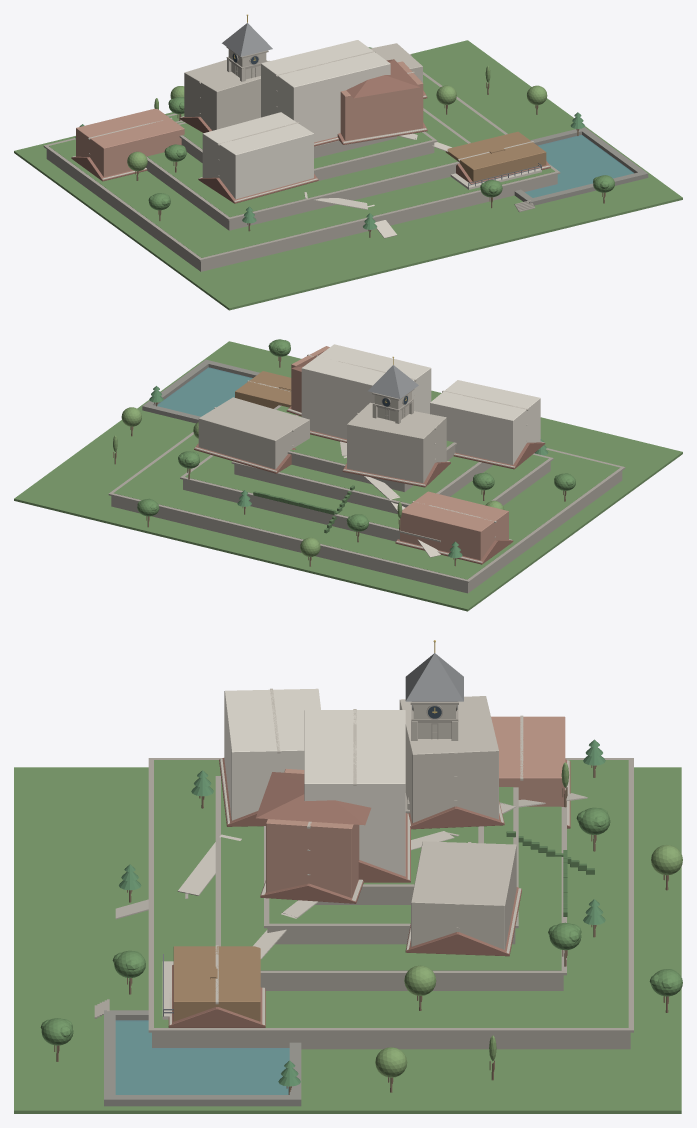
Rendered from DISTRICT_A_HILLTOP.glb.
3 views of the same model, one above another, from view 1: azimuth 30°, elevation 25°; view 2: azimuth 150°, elevation 25°; view 3: azimuth 270°, elevation 25° (orthographic). The views are drawn at different scales.
Parts seen in each view (by area): view 1: A_Base, A_Hill_Lawn_0, Mass, A_Hill_Struct_0, Mass.003, A_Hill_Lawn_1, Mass.005, A_Hill_Struct_1, Mass.001, Mass.002, A_Lake_Pond, Mass.006 (+9 smaller); view 2: A_Base, A_Hill_Lawn_0, A_Hill_Struct_0, Mass, Mass.003, Mass.001, Mass.004, Mass.005, A_Hill_Lawn_1, A_Hill_Struct_1, A_Hill_Struct_2, A_Lake_Pond (+12 smaller); view 3: A_Base, A_Hill_Lawn_0, A_Hill_Lawn_1, A_Hill_Struct_0, Mass, Mass.004, A_Lake_Pond, Mass.001, Mass.003, A_Hill_Struct_1, Mass.002, Mass.006 (+18 smaller).
Part boxes in pixels (box(x1,y1,x2,y2)): A_Base: box(14, 40, 682, 310); A_Hill_Lawn_0: box(49, 75, 554, 257); Mass: box(261, 40, 390, 142); A_Hill_Struct_0: box(43, 72, 560, 271); Mass.003: box(202, 112, 313, 199); A_Hill_Lawn_1: box(147, 111, 467, 217); Mass.005: box(76, 108, 184, 176); A_Hill_Struct_1: box(146, 108, 470, 230); Mass.001: box(184, 59, 268, 130); Mass.002: box(340, 61, 423, 140); A_Lake_Pond: box(525, 135, 633, 197); Mass.006: box(445, 131, 546, 182); A_Base: box(14, 341, 682, 611); A_Hill_Lawn_0: box(113, 434, 619, 579); A_Hill_Struct_0: box(108, 432, 625, 593); Mass: box(301, 344, 431, 439); Mass.003: box(430, 380, 540, 464); Mass.001: box(347, 402, 446, 483); Mass.004: box(198, 397, 309, 469); Mass.005: box(400, 491, 508, 560); A_Hill_Lawn_1: box(185, 406, 548, 528); A_Hill_Struct_1: box(180, 405, 553, 542); A_Hill_Struct_2: box(231, 414, 492, 513); A_Lake_Pond: box(157, 367, 252, 416); A_Base: box(14, 767, 681, 1113); A_Hill_Lawn_0: box(154, 760, 628, 1027); A_Hill_Lawn_1: box(221, 778, 561, 970); A_Hill_Struct_0: box(148, 758, 633, 1049); Mass: box(304, 710, 405, 876); Mass.004: box(411, 841, 516, 949); A_Lake_Pond: box(115, 1020, 289, 1094); Mass.001: box(399, 696, 498, 823); Mass.003: box(224, 688, 320, 820); A_Hill_Struct_1: box(215, 776, 566, 990); Mass.002: box(266, 768, 359, 897); Mass.006: box(173, 946, 260, 1021).
Size of the model in its own units: 112 by 37.54 by 92.2.
